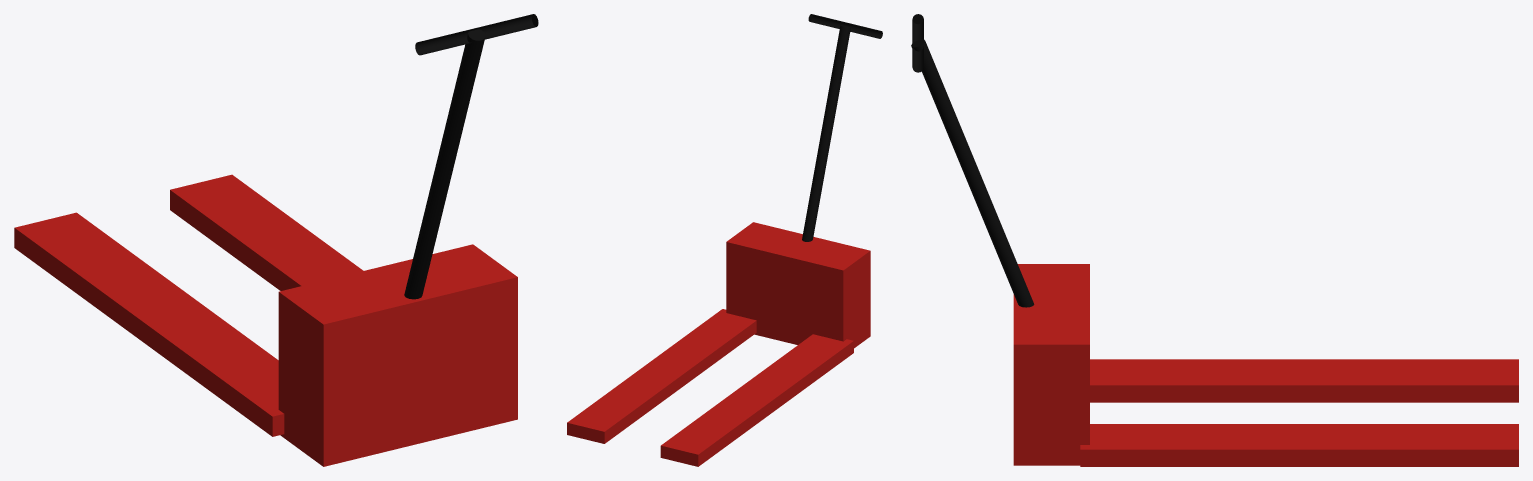
Rendered from industrial.handling.pallet_truck.glb.
The picture shows the model from 3 angles, left to right: view 1: azimuth 30°, elevation 25°; view 2: azimuth 150°, elevation 25°; view 3: azimuth 270°, elevation 25°; orthographic projection. The views are drawn at different scales.
Visible parts, largest first — view 1: main__hazard_red, main__plastic_black; view 2: main__hazard_red, main__plastic_black; view 3: main__hazard_red, main__plastic_black.
Boxes of the visible parts, x1,y1,x2,y2 form: main__hazard_red: [14, 174, 517, 466]; main__plastic_black: [404, 14, 538, 299]; main__hazard_red: [567, 222, 870, 466]; main__plastic_black: [802, 14, 882, 241]; main__hazard_red: [1013, 264, 1518, 466]; main__plastic_black: [911, 14, 1034, 307].
Size of the model in its own units: 0.56 by 1.12 by 1.59.
